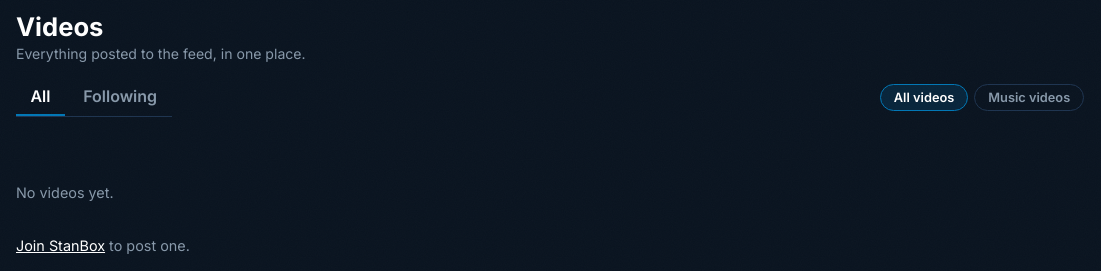
it: Videos page › Following asks a signed-out visitor to log in, without a request
expect the text "No videos yet." is shown: met, box [16,184,114,201]
Step 1. Click the tab "Following" → (120, 97), box [69,78,172,116]
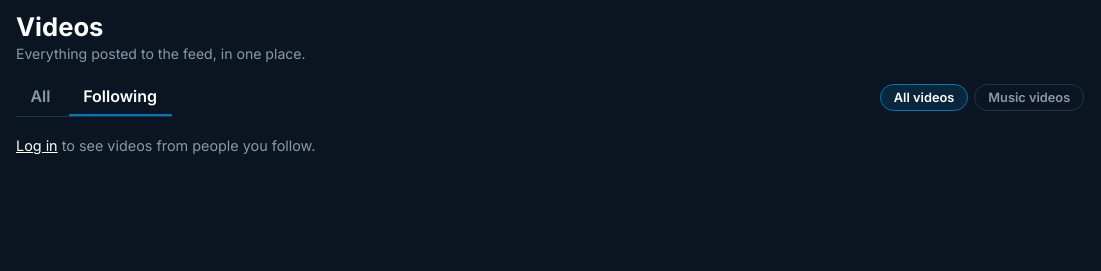
expect the link "Log in" is shown: met, box [16,137,58,154]
